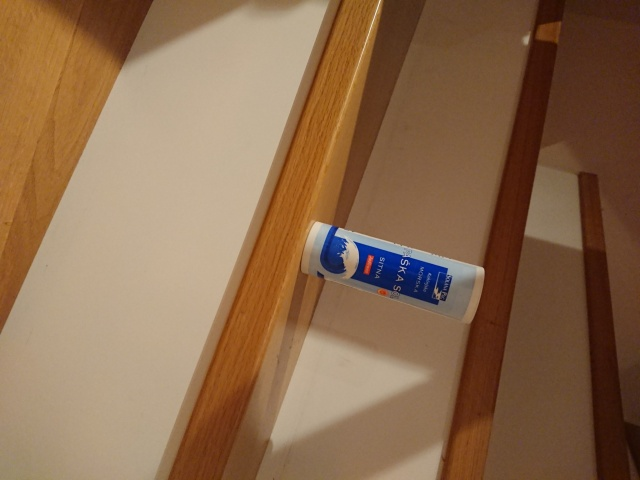Solana Pag Fine Sea Salt 250g: (298, 218, 487, 327)
